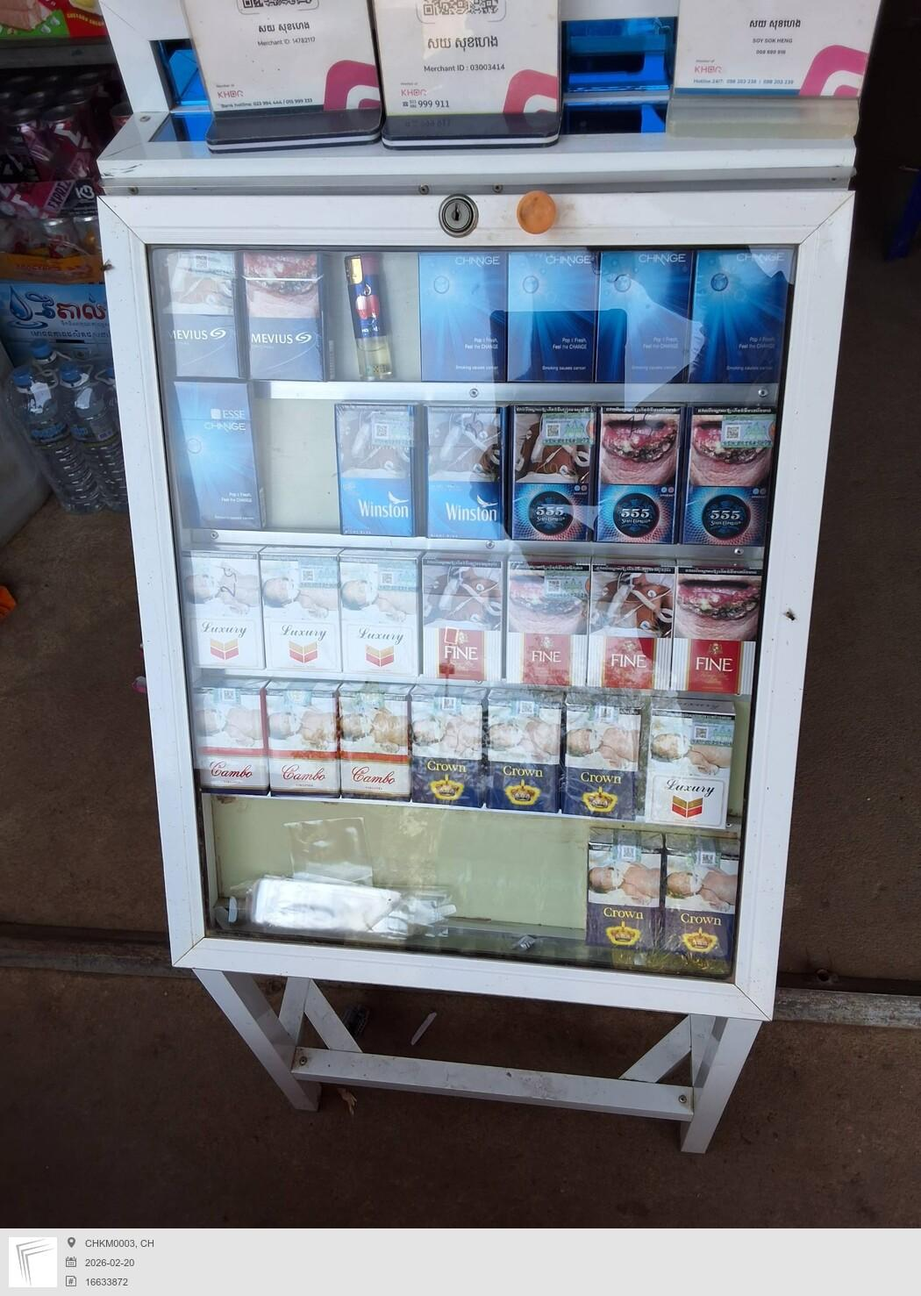cigarette_pack: (677, 402, 788, 553), (160, 393, 274, 537), (689, 244, 796, 377), (600, 239, 693, 379), (418, 546, 514, 679), (584, 567, 689, 688), (514, 404, 602, 548), (602, 405, 686, 555), (668, 572, 765, 700), (510, 247, 598, 384), (426, 397, 505, 546), (151, 251, 239, 384), (333, 400, 411, 546), (582, 837, 670, 963), (647, 700, 733, 827), (260, 548, 342, 679), (509, 565, 600, 683), (670, 830, 749, 963), (426, 256, 496, 402), (335, 549, 416, 674), (237, 256, 316, 383), (567, 697, 647, 816), (482, 698, 563, 811), (181, 560, 253, 677), (186, 681, 265, 784), (414, 691, 484, 804), (268, 686, 340, 790), (332, 688, 412, 779)
